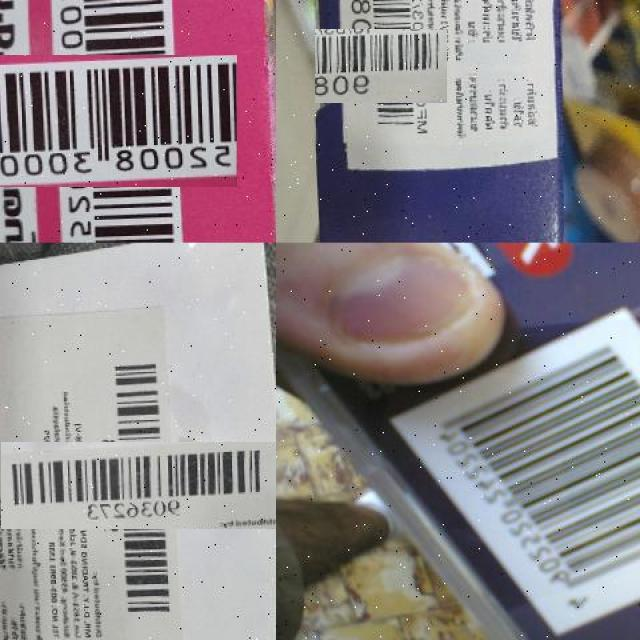Barcode: (383, 298, 640, 640), (23, 28, 210, 215), (42, 393, 227, 578), (329, 15, 433, 118)
